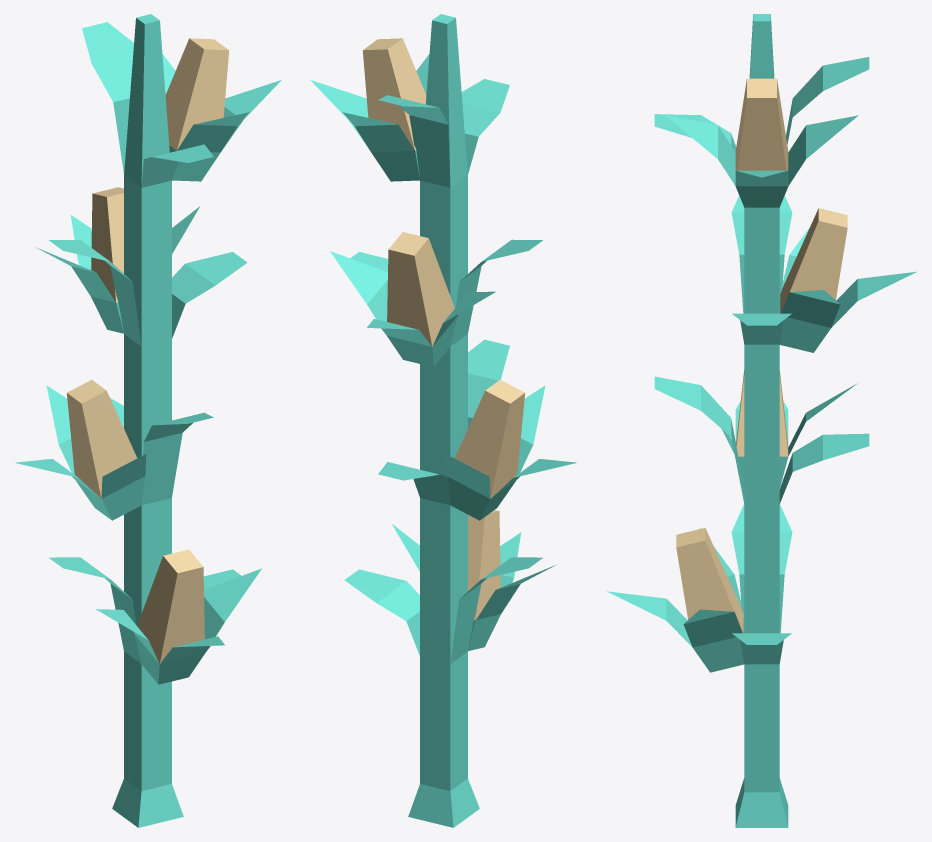
Rendered from kn_crops_cornstaged.fbx.
3 renders of one model, left to right at view 1: azimuth 30°, elevation 25°; view 2: azimuth 150°, elevation 25°; view 3: azimuth 270°, elevation 25°, orthographic.
Visible parts, largest first — view 1: kn_crops_cornstaged_LOD0; view 2: kn_crops_cornstaged_LOD0; view 3: kn_crops_cornstaged_LOD0.
Boxes of the visible parts, x1,y1,x2,y2 form: kn_crops_cornstaged_LOD0: (15, 14, 281, 827); kn_crops_cornstaged_LOD0: (310, 14, 576, 827); kn_crops_cornstaged_LOD0: (607, 14, 916, 827).
Size of what is drawn, in the model's own units: 0.7772 by 2.2 by 0.7772.
